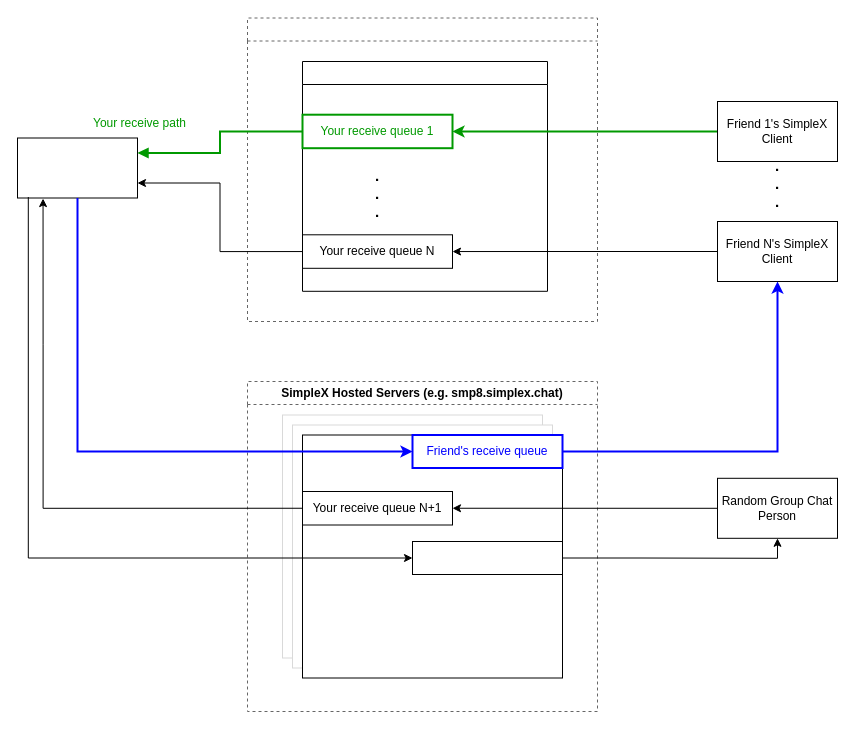
Some shapes in this 855 by 729 pixel diagram are drawn without their labels. Each missing label, with the box of its shape:
Random's receive queue: (412, 540, 562, 574)
SimpleXMQ Service: (302, 60, 548, 291)
Your SimpleX Client: (16, 137, 138, 198)
Your StartOS Server: (246, 17, 598, 322)
